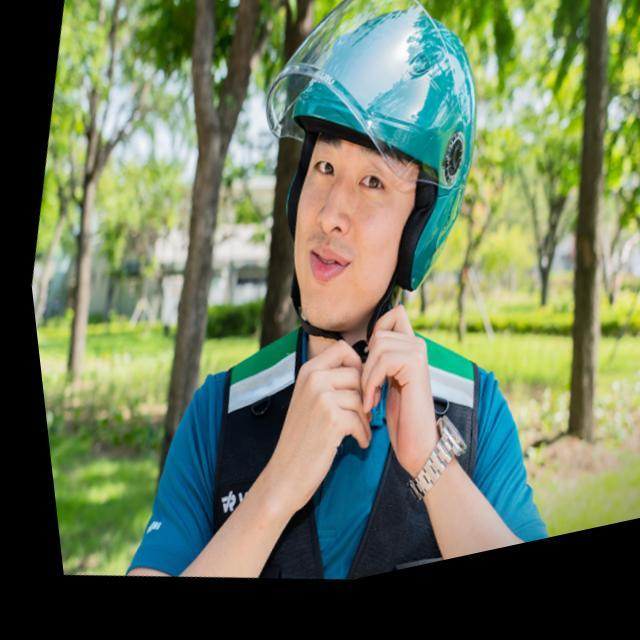Helmet: (231, 0, 489, 330)
